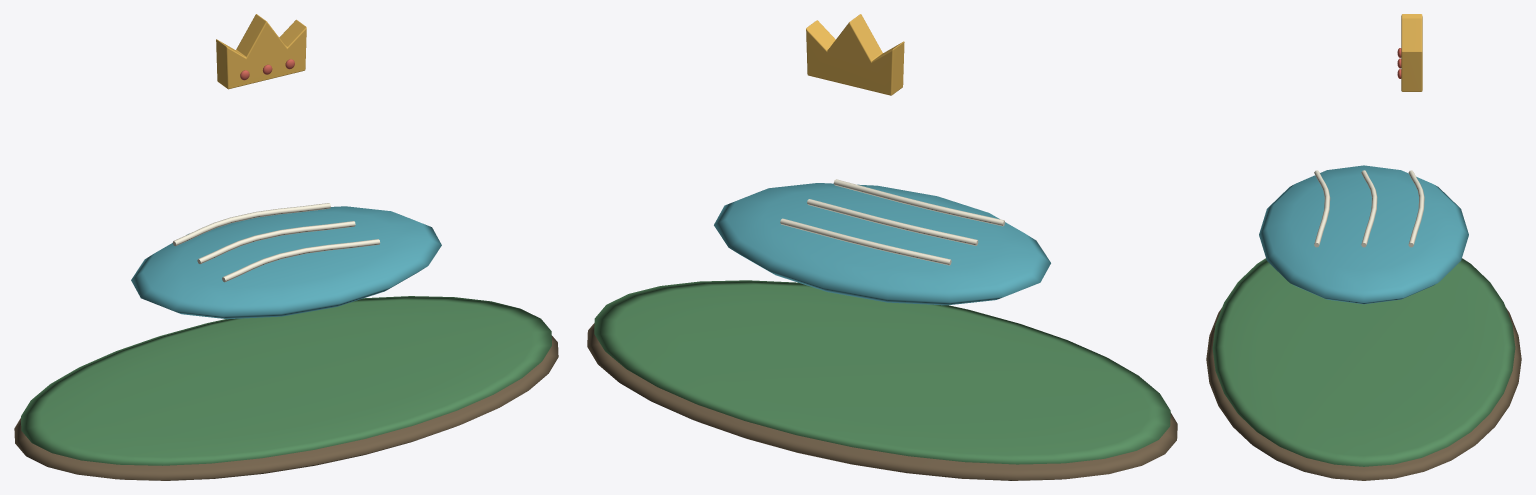
Rendered from complete-third-khan-sweat-association.glb.
3 renders of one model, left to right at view 1: azimuth 30°, elevation 25°; view 2: azimuth 150°, elevation 25°; view 3: azimuth 270°, elevation 25°, orthographic. The views are drawn at different scales.
Visible parts, largest first — view 1: complete-third-khan-sweat-association_surface_01, complete-third-khan-sweat-association_surface_02, complete-third-khan-sweat-association_surface_00, complete-third-khan-sweat-association_surface_04, complete-third-khan-sweat-association_surface_03; view 2: complete-third-khan-sweat-association_surface_01, complete-third-khan-sweat-association_surface_02, complete-third-khan-sweat-association_surface_00, complete-third-khan-sweat-association_surface_04, complete-third-khan-sweat-association_surface_03; view 3: complete-third-khan-sweat-association_surface_01, complete-third-khan-sweat-association_surface_02, complete-third-khan-sweat-association_surface_00, complete-third-khan-sweat-association_surface_04, complete-third-khan-sweat-association_surface_03.
Boxes of the visible parts, x1=… form: complete-third-khan-sweat-association_surface_01: x1=21, y1=296, x2=551, y2=465; complete-third-khan-sweat-association_surface_02: x1=131, y1=206, x2=441, y2=319; complete-third-khan-sweat-association_surface_00: x1=14, y1=335, x2=558, y2=480; complete-third-khan-sweat-association_surface_04: x1=216, y1=14, x2=306, y2=89; complete-third-khan-sweat-association_surface_03: x1=172, y1=203, x2=380, y2=282; complete-third-khan-sweat-association_surface_01: x1=594, y1=280, x2=1170, y2=464; complete-third-khan-sweat-association_surface_02: x1=714, y1=183, x2=1050, y2=305; complete-third-khan-sweat-association_surface_00: x1=587, y1=323, x2=1177, y2=480; complete-third-khan-sweat-association_surface_04: x1=806, y1=14, x2=904, y2=95; complete-third-khan-sweat-association_surface_03: x1=780, y1=179, x2=1004, y2=265; complete-third-khan-sweat-association_surface_01: x1=1212, y1=258, x2=1515, y2=466; complete-third-khan-sweat-association_surface_02: x1=1259, y1=165, x2=1468, y2=304; complete-third-khan-sweat-association_surface_00: x1=1206, y1=308, x2=1521, y2=480; complete-third-khan-sweat-association_surface_04: x1=1401, y1=14, x2=1422, y2=91; complete-third-khan-sweat-association_surface_03: x1=1314, y1=170, x2=1424, y2=247.
Size of the model in its own units: 4.56 by 3.12 by 2.5.
